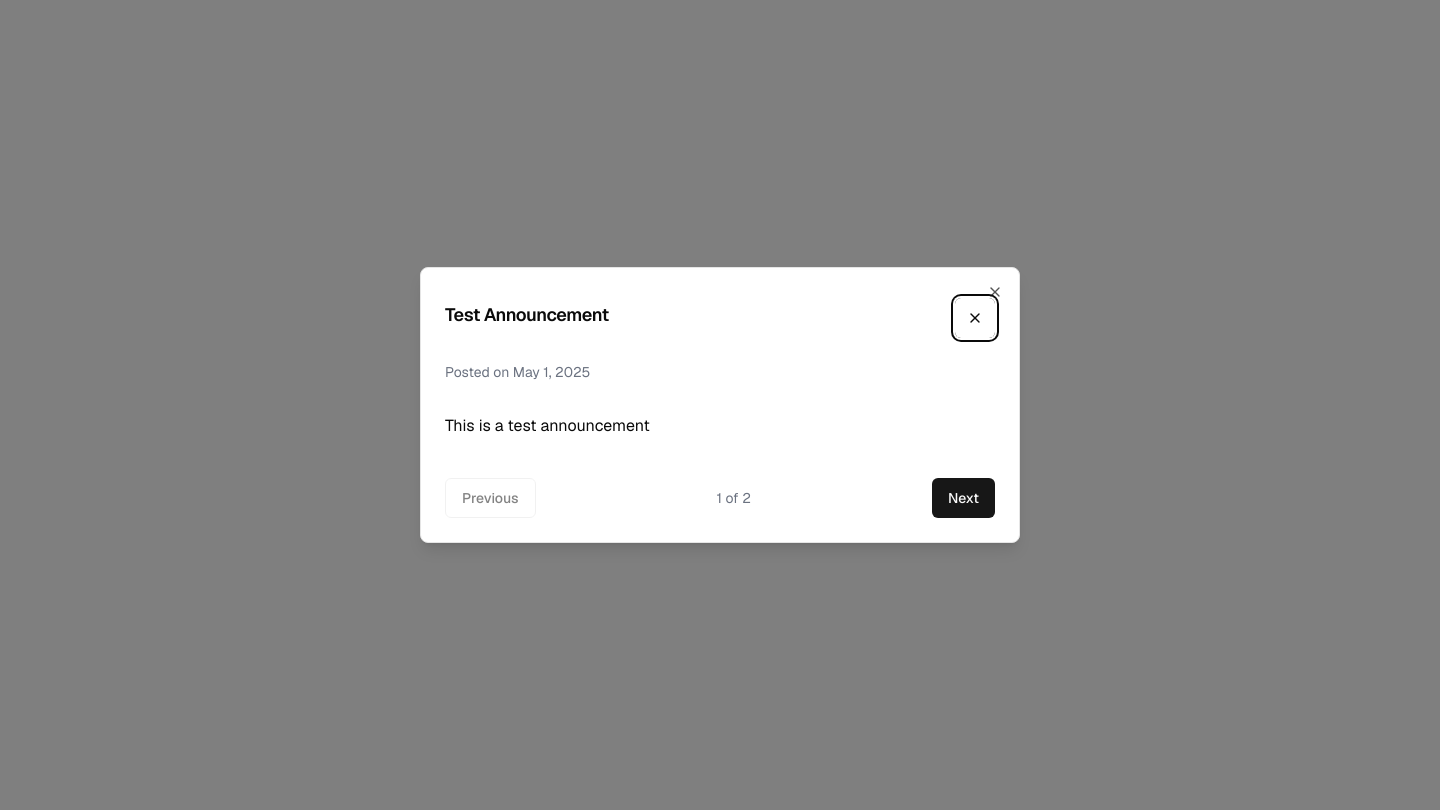
Scenario: AnnouncementModal › allows navigation between multiple announcements
Check: the heading "Test Announcement" is shown, box [445,306,609,324]
Check: the text "1 of 2" is shown, box [717,488,751,508]
// Click the next button
Click the button "Next": (963, 498) [932,478,995,518]
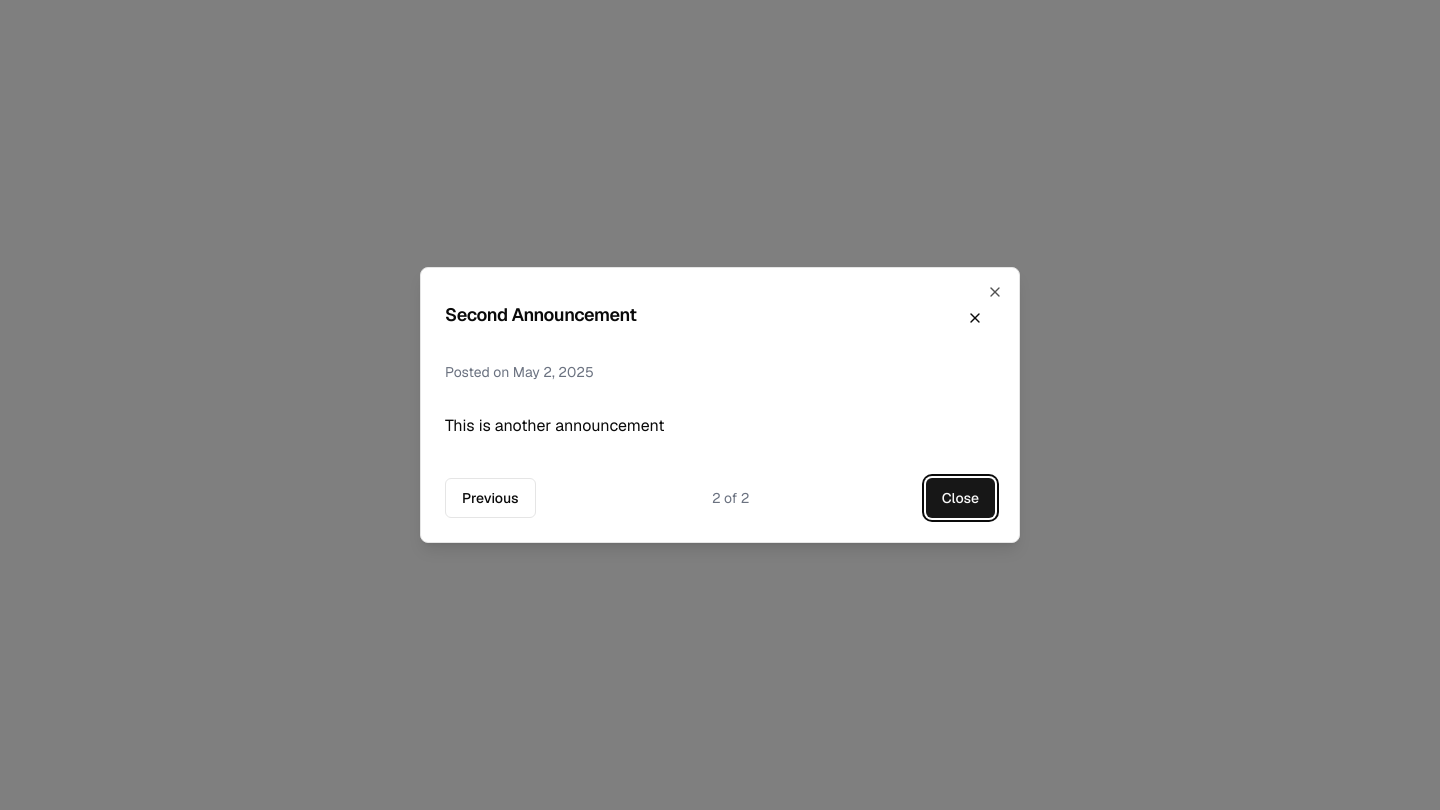
Check: the heading "Second Announcement" is shown, box [445,306,636,324]
Check: the text "2 of 2" is shown, box [712,488,749,508]
// Click the previous button
Click the button "Previous": (490, 498) [445,478,536,518]
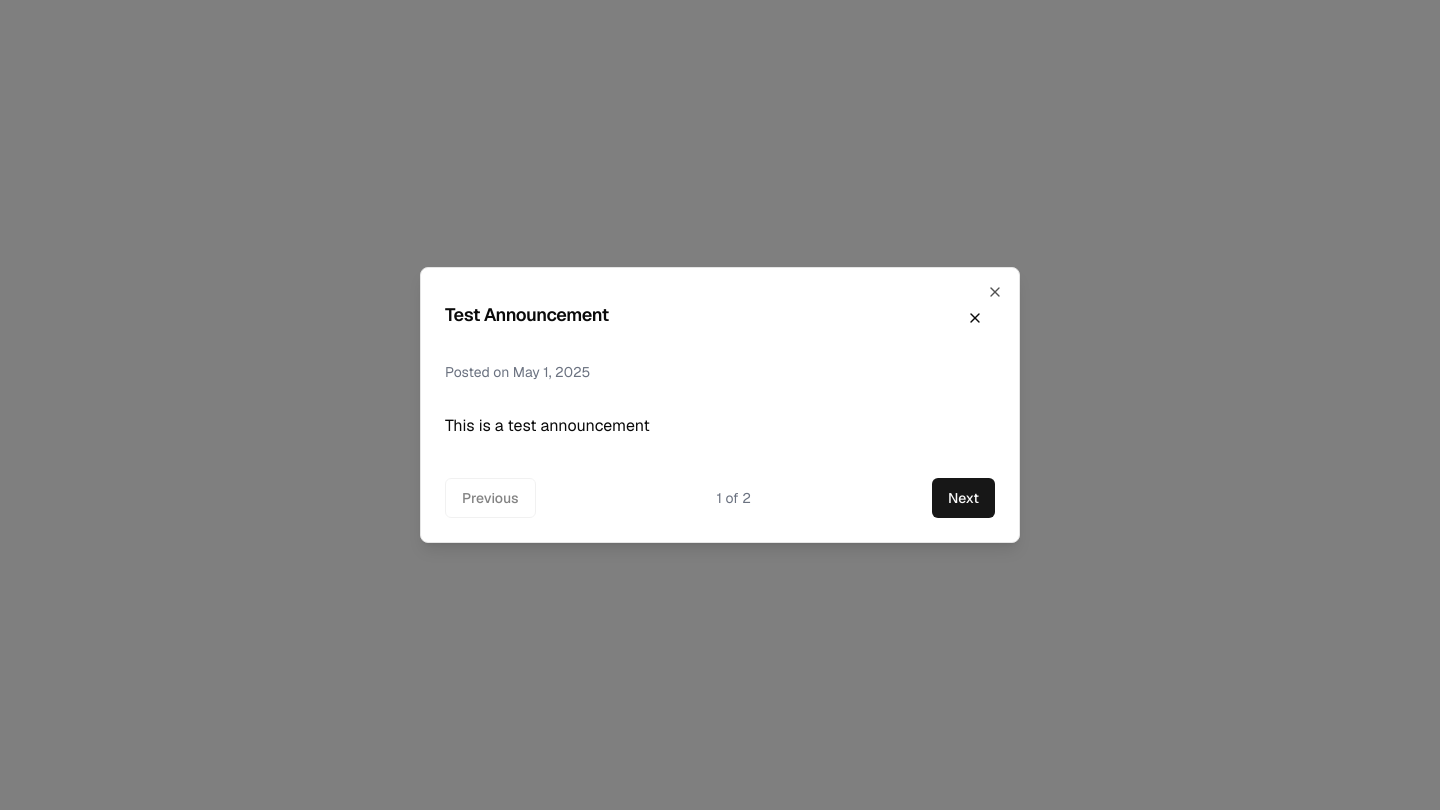
Check: the heading "Test Announcement" is shown, box [445,306,609,324]
